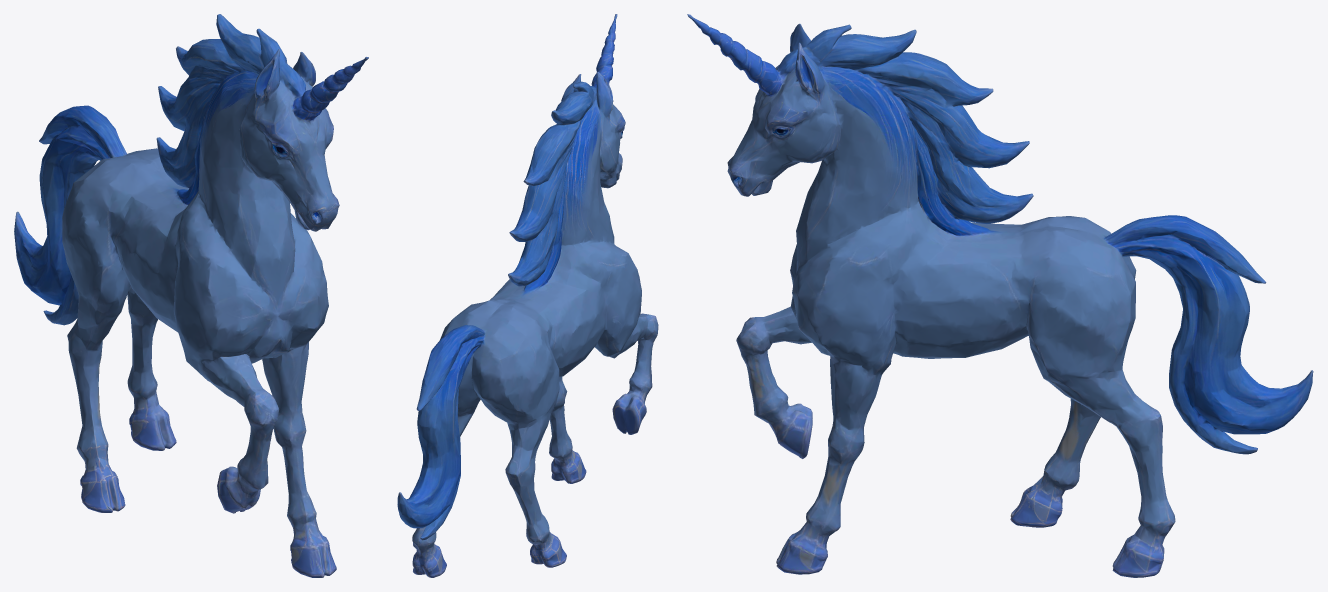
The model's file is unicorn.glb.
3 renders of one model, left to right at view 1: azimuth 30°, elevation 25°; view 2: azimuth 150°, elevation 25°; view 3: azimuth 270°, elevation 25°, orthographic. The views are drawn at different scales.
Visible parts, largest first — view 1: tripo_node_c55ec138-4abe-4d42-b076-88d32c40ac98; view 2: tripo_node_c55ec138-4abe-4d42-b076-88d32c40ac98; view 3: tripo_node_c55ec138-4abe-4d42-b076-88d32c40ac98.
Part boxes in pixels (left/top/right/bottom): tripo_node_c55ec138-4abe-4d42-b076-88d32c40ac98: left=14, top=14, right=368, bottom=577; tripo_node_c55ec138-4abe-4d42-b076-88d32c40ac98: left=397, top=14, right=658, bottom=577; tripo_node_c55ec138-4abe-4d42-b076-88d32c40ac98: left=687, top=14, right=1313, bottom=577.
Size of the model in its own units: 0.2503 by 0.9553 by 0.9833.
1 material, 1 textured.
